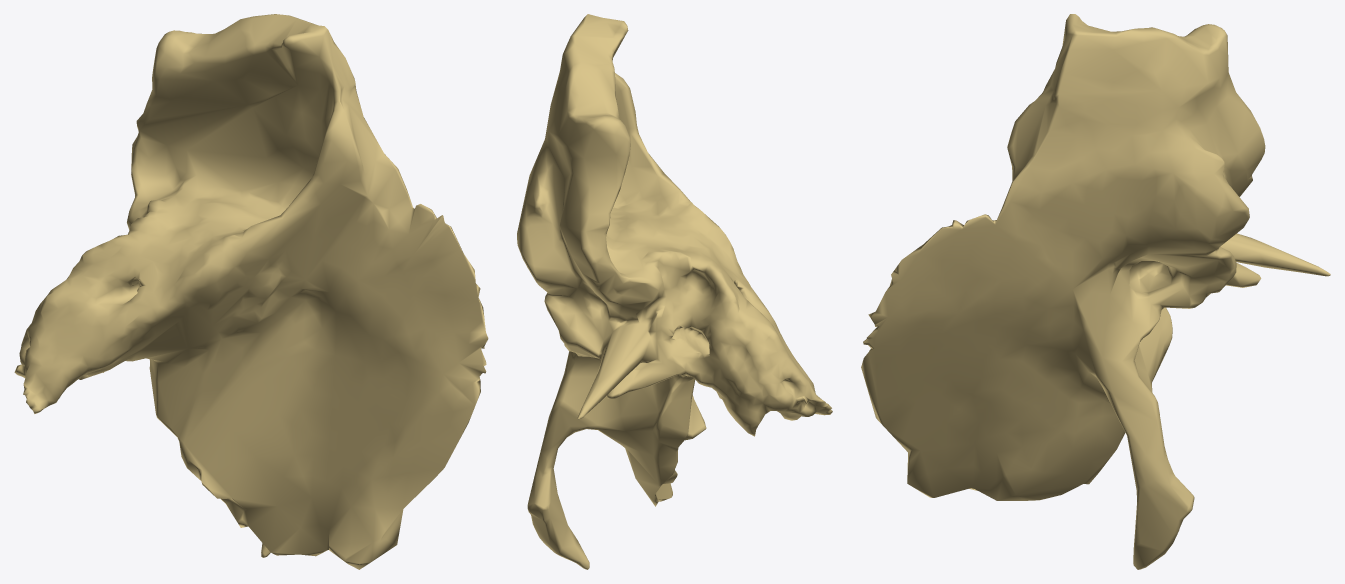
3 views of the same model, side by side, from view 1: azimuth 30°, elevation 25°; view 2: azimuth 150°, elevation 25°; view 3: azimuth 270°, elevation 25° (orthographic). The views are drawn at different scales.
Parts seen in each view (by area): view 1: 左侧颞骨; view 2: 左侧颞骨; view 3: 左侧颞骨.
Part boxes in pixels (box(x1,y1,x2,y2)): 左侧颞骨: box(14, 14, 488, 569); 左侧颞骨: box(517, 14, 832, 569); 左侧颞骨: box(861, 14, 1330, 569).
Bounding box in the file's own units: 0.0925 × 0.142 × 0.1096.
